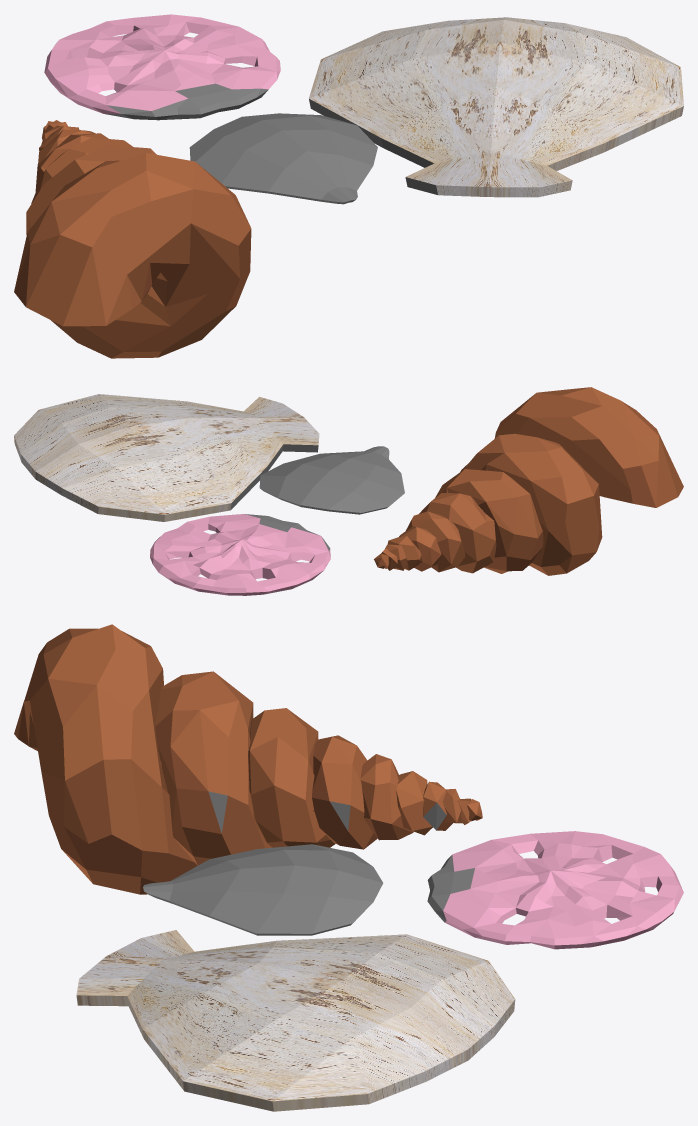
The model's file is Conchas.obj.
3 renders of one model, top to bottom at view 1: azimuth 30°, elevation 25°; view 2: azimuth 150°, elevation 25°; view 3: azimuth 270°, elevation 25°, orthographic. The views are drawn at different scales.
Parts seen in each view (by area): view 1: Shells:Mesh; view 2: Shells:Mesh; view 3: Shells:Mesh.
Boxes of the visible parts, x1,y1,x2,y2 form: Shells:Mesh: [14, 14, 683, 358]; Shells:Mesh: [14, 387, 683, 595]; Shells:Mesh: [14, 624, 683, 1111].
Size of the model in its own units: 4.56 by 1.24 by 3.24.
4 materials, 3 textured.
